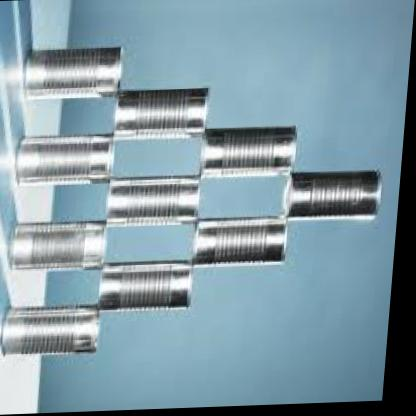Metal: (0, 27, 398, 390)
